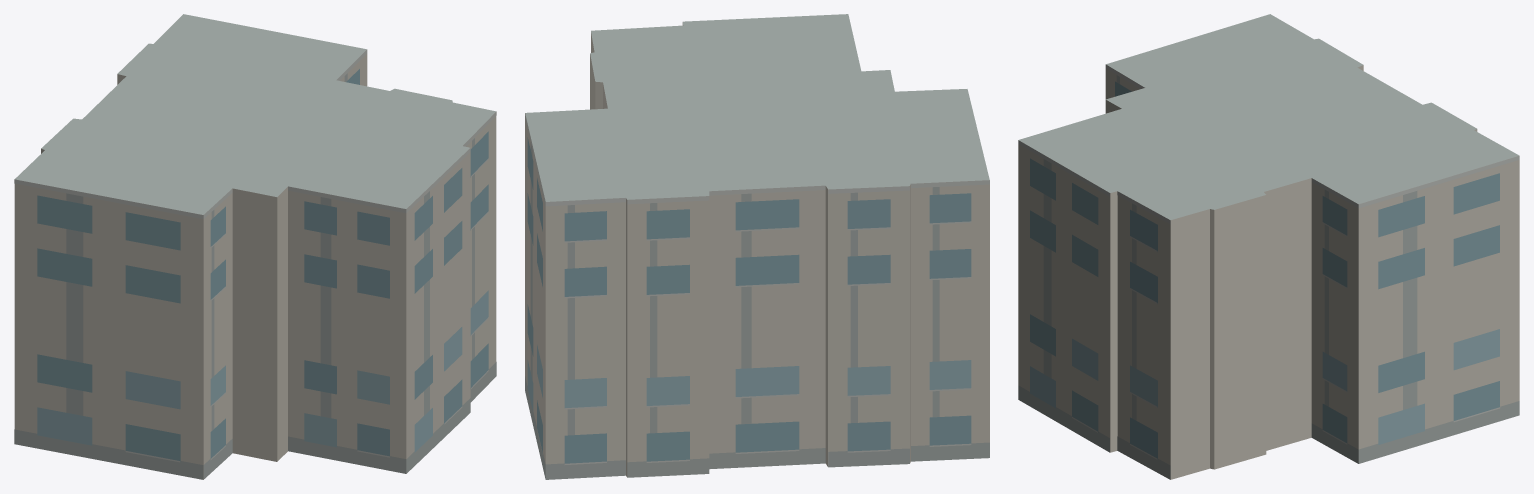
The model's file is survey-upis-32663181.glb.
3 renders of one model, left to right at view 1: azimuth 30°, elevation 25°; view 2: azimuth 150°, elevation 25°; view 3: azimuth 270°, elevation 25°, orthographic. The views are drawn at different scales.
Parts seen in each view (by area): view 1: survey-upis-32663181.tmp; view 2: survey-upis-32663181.tmp; view 3: survey-upis-32663181.tmp.
Boxes of the visible parts, box(x1,y1,x2,y2) form: survey-upis-32663181.tmp: box(14, 14, 496, 479); survey-upis-32663181.tmp: box(525, 14, 989, 479); survey-upis-32663181.tmp: box(1018, 14, 1519, 479).
Size of the model in its own units: 25.99 by 15.25 by 26.7.
